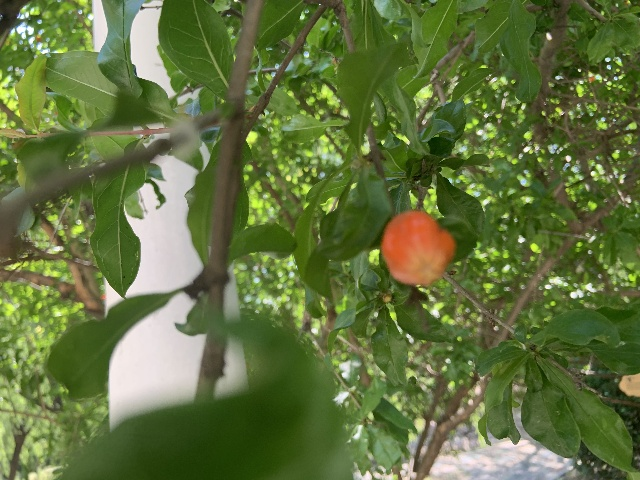bud: (381, 210, 455, 286)
